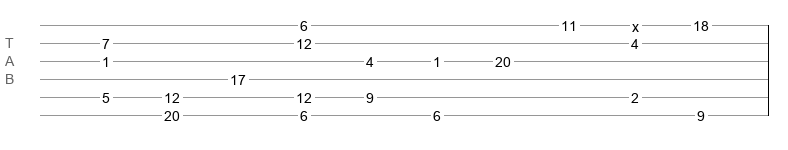1: (102, 54, 110, 64), (433, 54, 441, 64)
11: (561, 18, 577, 28)
12: (164, 90, 180, 100), (296, 90, 312, 100), (296, 36, 312, 46)
17: (230, 72, 246, 82)
18: (693, 18, 709, 28)
2: (631, 90, 639, 100)
20: (164, 108, 180, 118), (495, 54, 511, 64)
4: (366, 54, 374, 64), (631, 36, 639, 46)
5: (102, 90, 110, 100)
6: (300, 108, 308, 118), (300, 18, 308, 28), (433, 108, 441, 118)
7: (102, 36, 110, 46)
9: (366, 90, 374, 100), (697, 108, 705, 118)
x: (632, 19, 639, 27)
